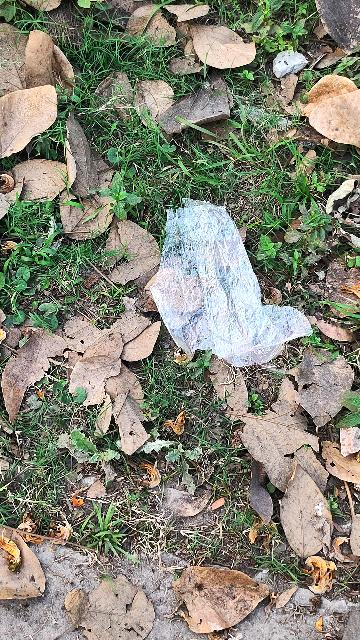polythene: (146, 174, 327, 390)
